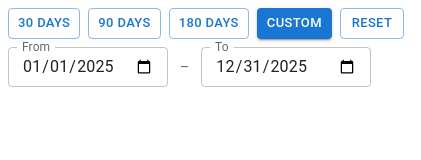
Test: DateRangeFilter inverted range › drops the held range on reset
Type "2026-01-15" into the date field labelled "From". click: (88, 67)
box: [8,47,168,87]
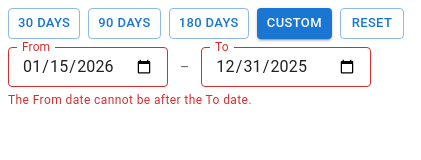
Click the button "Reset". click: (372, 23)
box: [340,8,404,39]
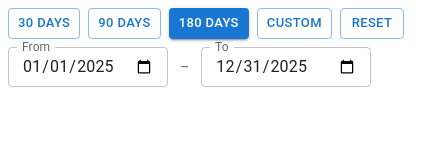
Expected: the message "The From date cannot be after the To date." is gone
Expected: the date field labelled "From" holds "2025-01-01", [8,47,168,87]
